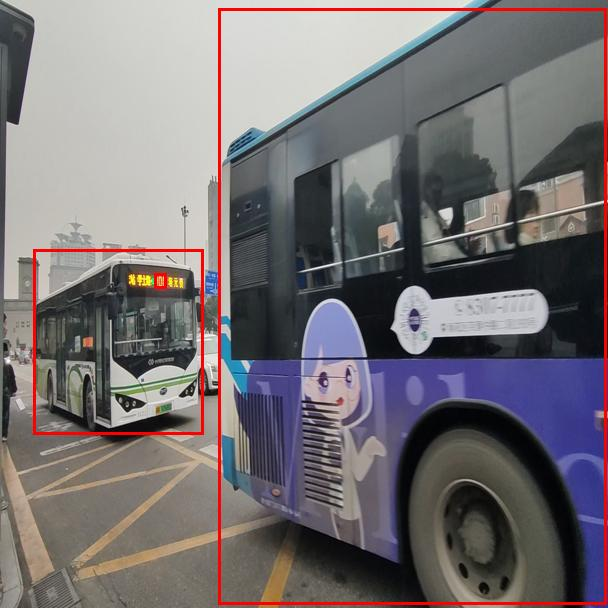bus: (218, 8, 606, 604), (33, 249, 203, 434)
screen: (154, 273, 166, 288)
